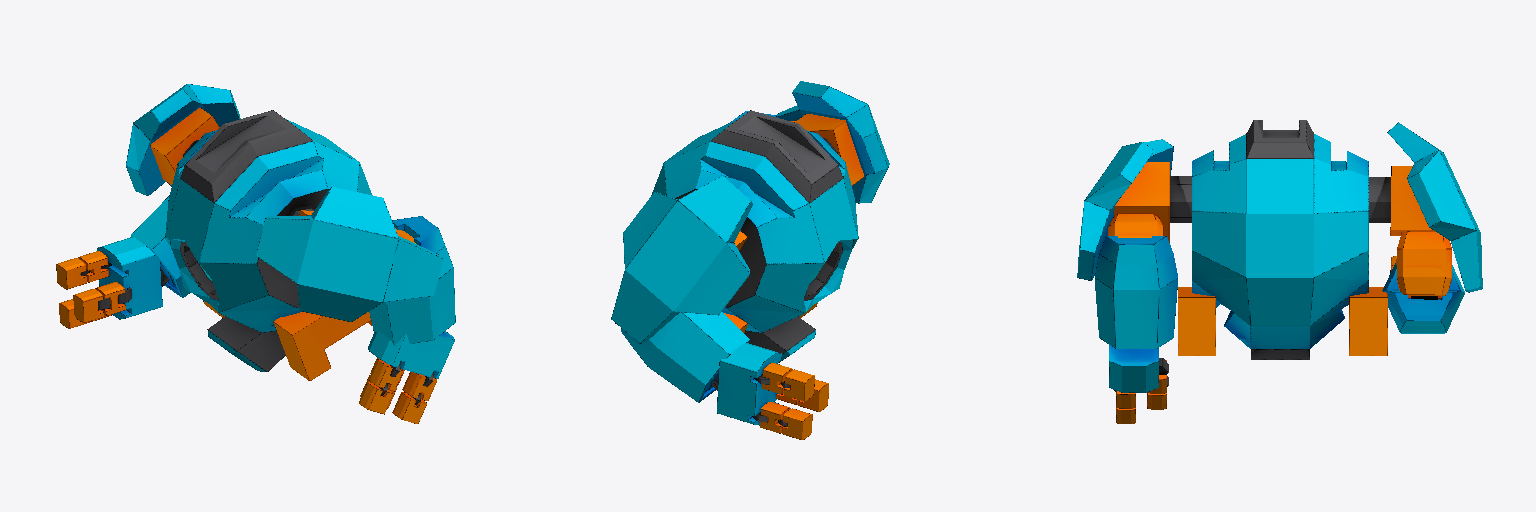
3 renders of one model, left to right at view 1: azimuth 30°, elevation 25°; view 2: azimuth 150°, elevation 25°; view 3: azimuth 270°, elevation 25°, orthographic.
Parts seen in each view (by area): view 1: Plane001, Object006, Object004, Object002, Object008, Object007, Object003; view 2: Plane001, Object002, Object004, Object006, Object003; view 3: Plane001, Object002, Object007, Object006, Object008, Object003, Object005, Object001.
Part boxes in pixels (x1,y1,x2,y2): Plane001: (165,110,372,380); Object006: (256,187,443,321); Object004: (56,237,169,328); Object002: (126,84,240,195); Object008: (359,331,454,423); Object007: (369,216,455,345); Object003: (131,195,190,297); Plane001: (615,110,858,363); Object002: (611,176,752,343); Object004: (711,343,828,439); Object006: (777,81,889,203); Object003: (621,312,749,402); Plane001: (1178,120,1387,359); Object002: (1387,122,1482,298); Object007: (1095,236,1177,348); Object006: (1077,139,1173,280); Object008: (1109,345,1168,423); Object003: (1382,263,1464,333); Object005: (1170,176,1191,222); Object001: (1369,177,1390,222).
Bounding box in the file's own units: 123 × 127 × 182.
Materials: 1 (1 with a texture image).